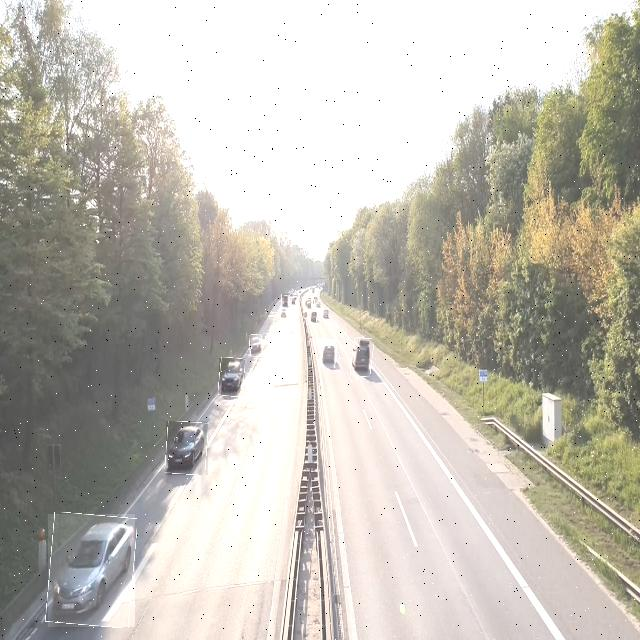Car: (48, 514, 135, 627), (166, 421, 208, 475), (219, 358, 245, 396), (351, 338, 373, 376), (320, 339, 336, 368), (249, 335, 263, 357), (279, 306, 287, 319), (281, 294, 288, 308), (322, 307, 329, 319), (314, 299, 321, 311), (304, 299, 311, 310), (311, 311, 317, 323), (310, 286, 316, 296), (290, 297, 296, 306)
